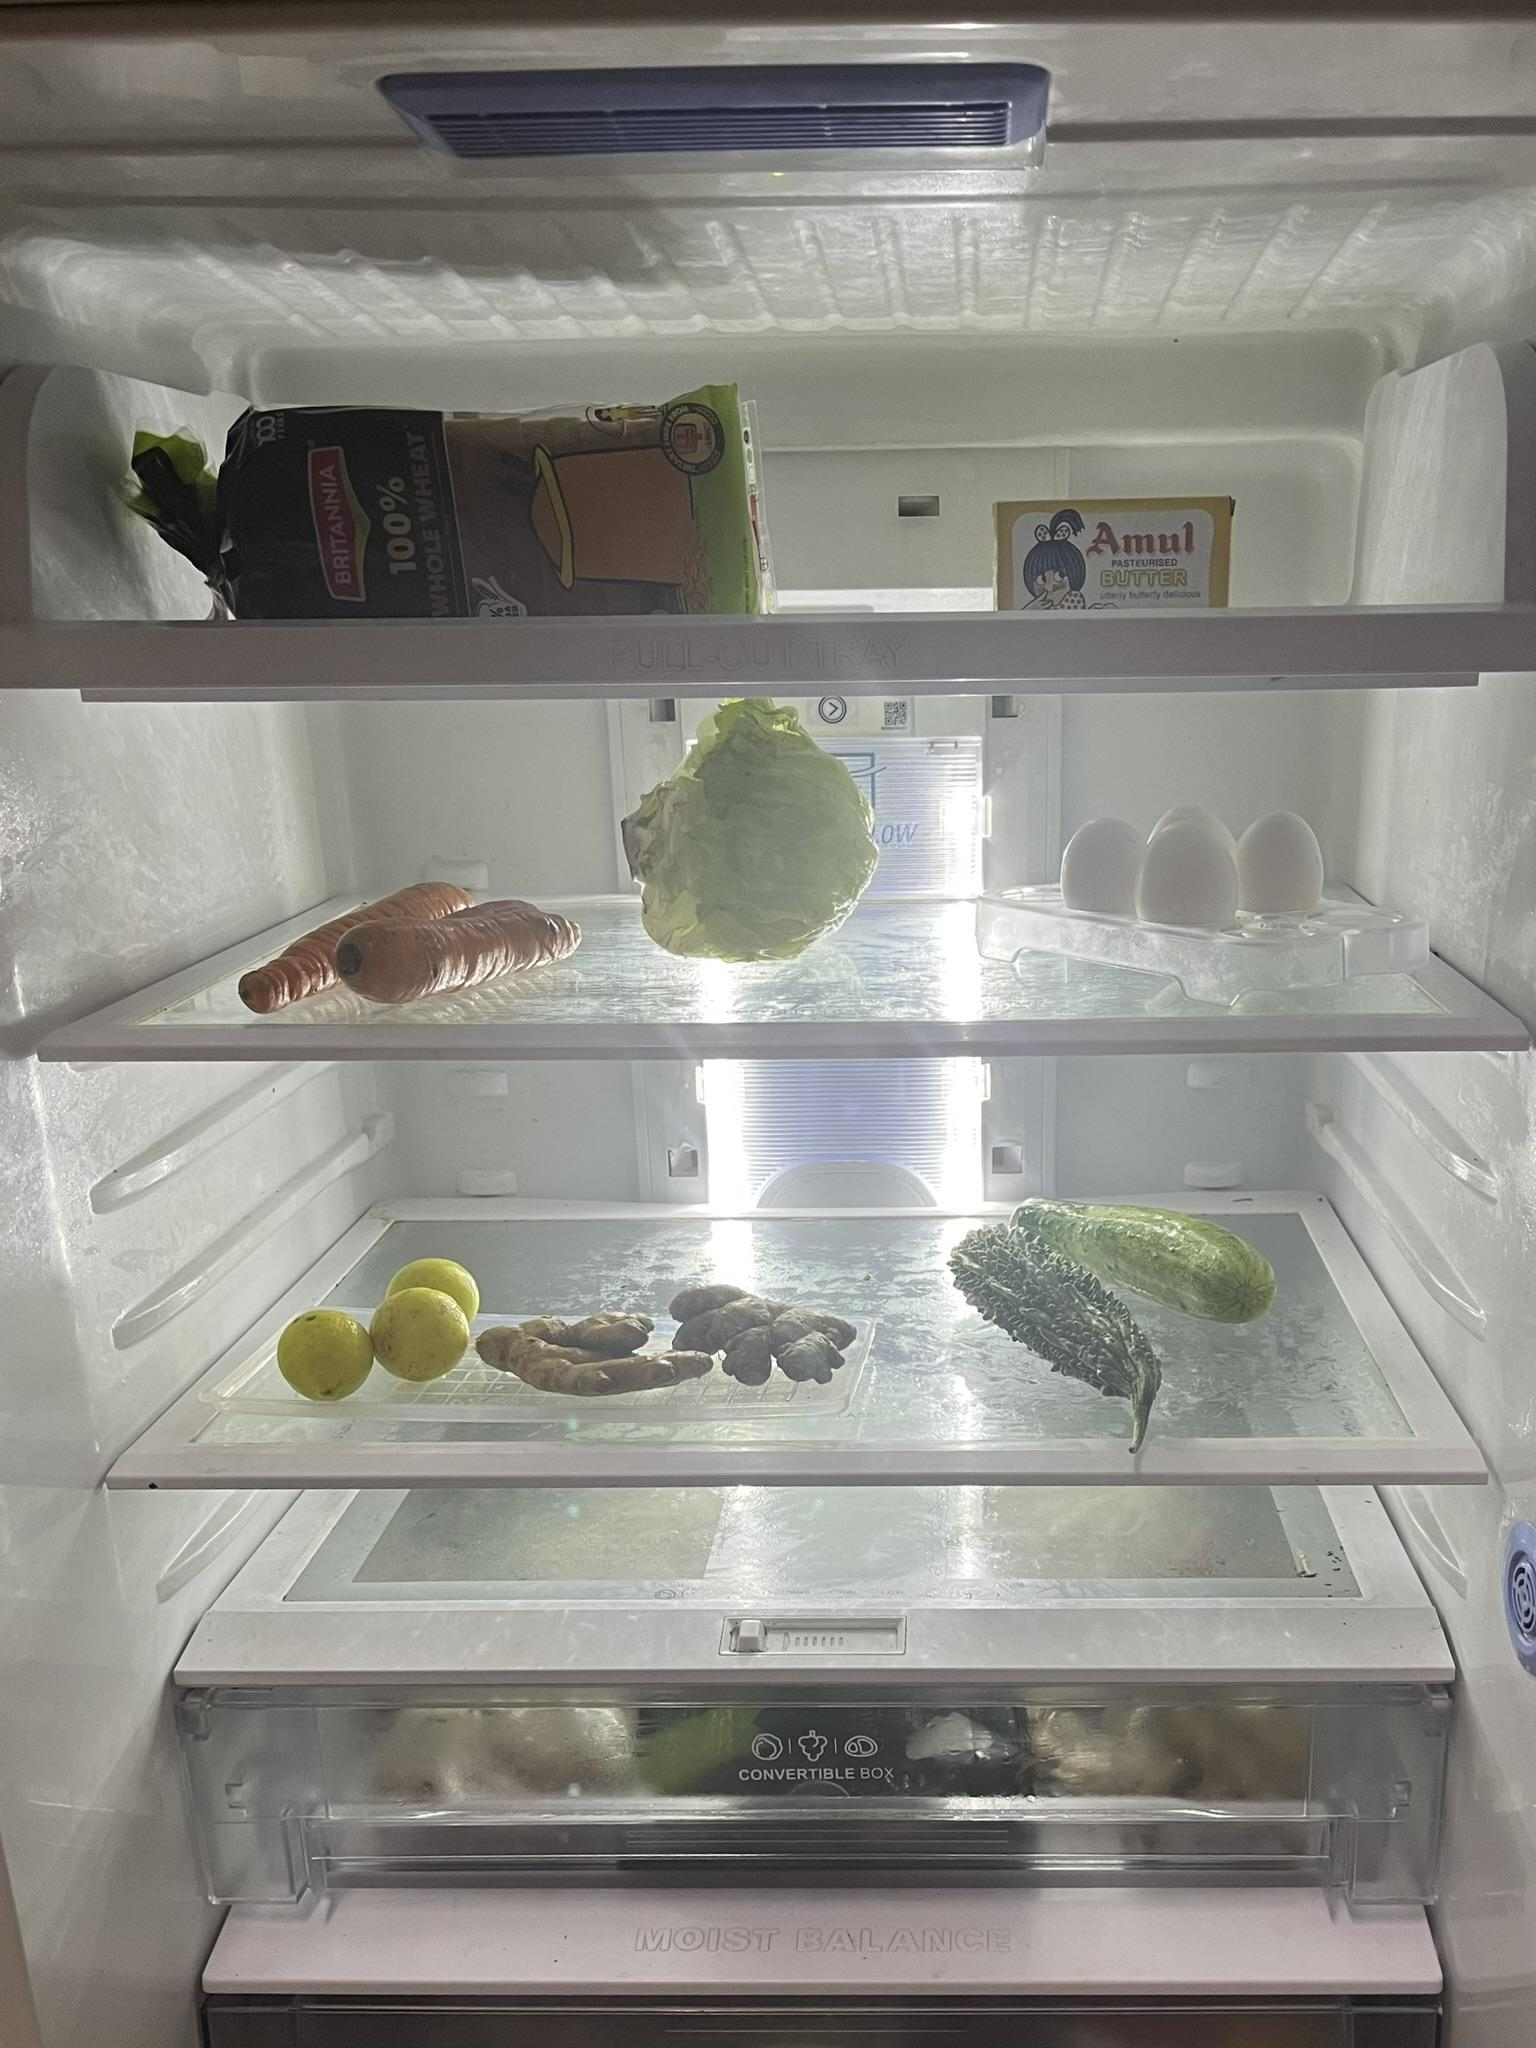bitter gaurd: (947, 1221, 1157, 1430)
bread: (113, 369, 773, 606)
butter: (994, 490, 1241, 606)
carrots: (223, 869, 591, 1006)
cucumber: (1000, 1177, 1300, 1334)
egg: (1050, 784, 1326, 930)
ginger: (479, 1290, 866, 1397)
lemon: (276, 1250, 479, 1409)
lettuce: (613, 706, 879, 971)
